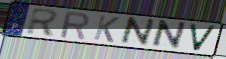K: (92, 14, 121, 44)
N: (117, 16, 157, 48), (149, 19, 188, 51)
R: (25, 7, 61, 37), (58, 10, 90, 41)
V: (187, 22, 219, 53)
